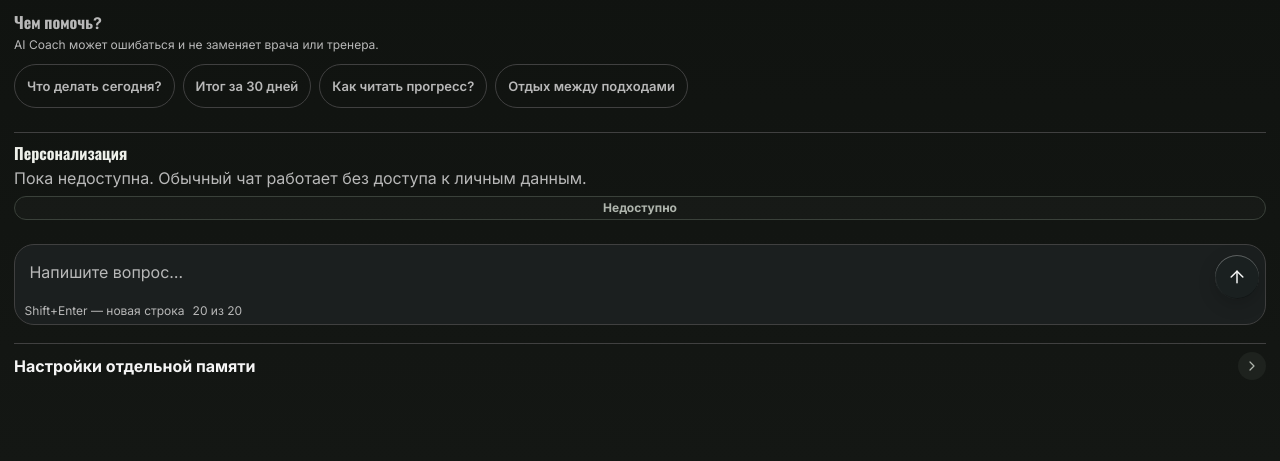
it: AiCoachExperience › keeps send enabled for a provider rate limit without changing personal quota
Step 1. Type "Вопрос во время лимита провайдера" into the text box named "Сообщение AI Coach" → [614, 275], box 21,251 -> 1207,299
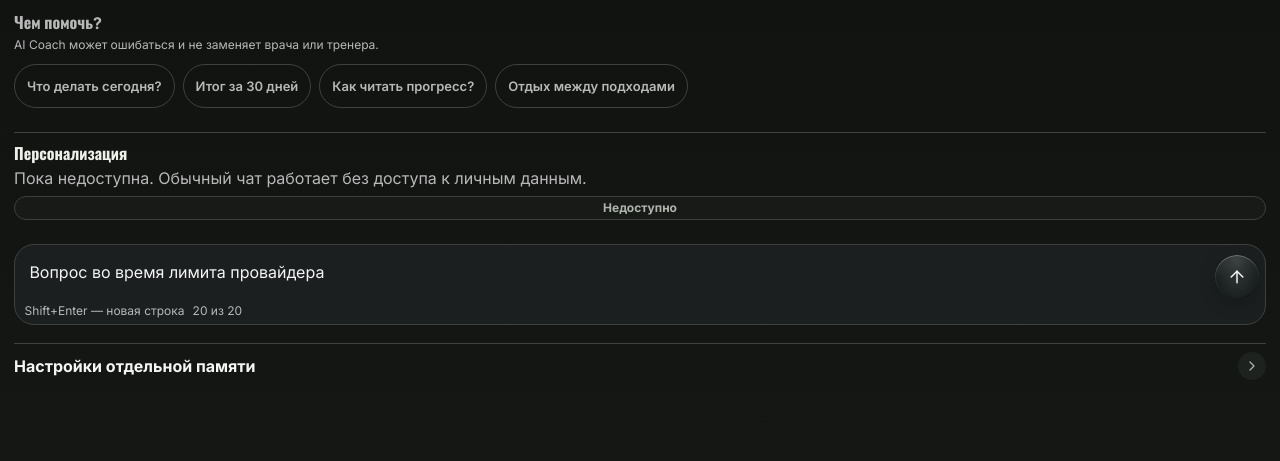
Step 2. Click the button named "Отправить" → [1237, 277], box 1215,255 -> 1259,299
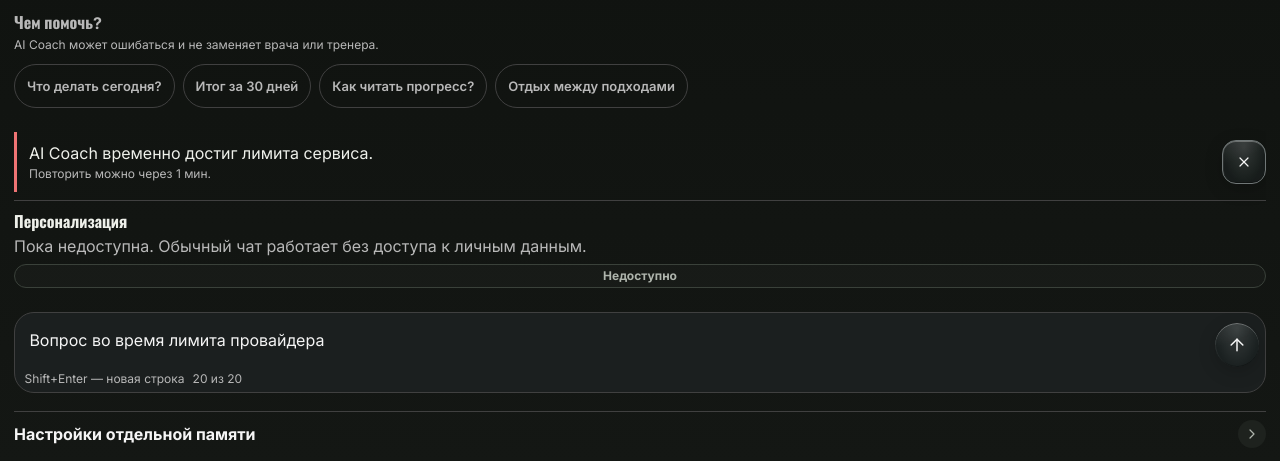
expect the button named "Отправить" is enabled: met, box 1215,323 -> 1259,367
expect the message with test id "ai-coach-chat-failure" shows "AI Coach временно достиг лимита сервиса.": met, box 29,144 -> 373,164
